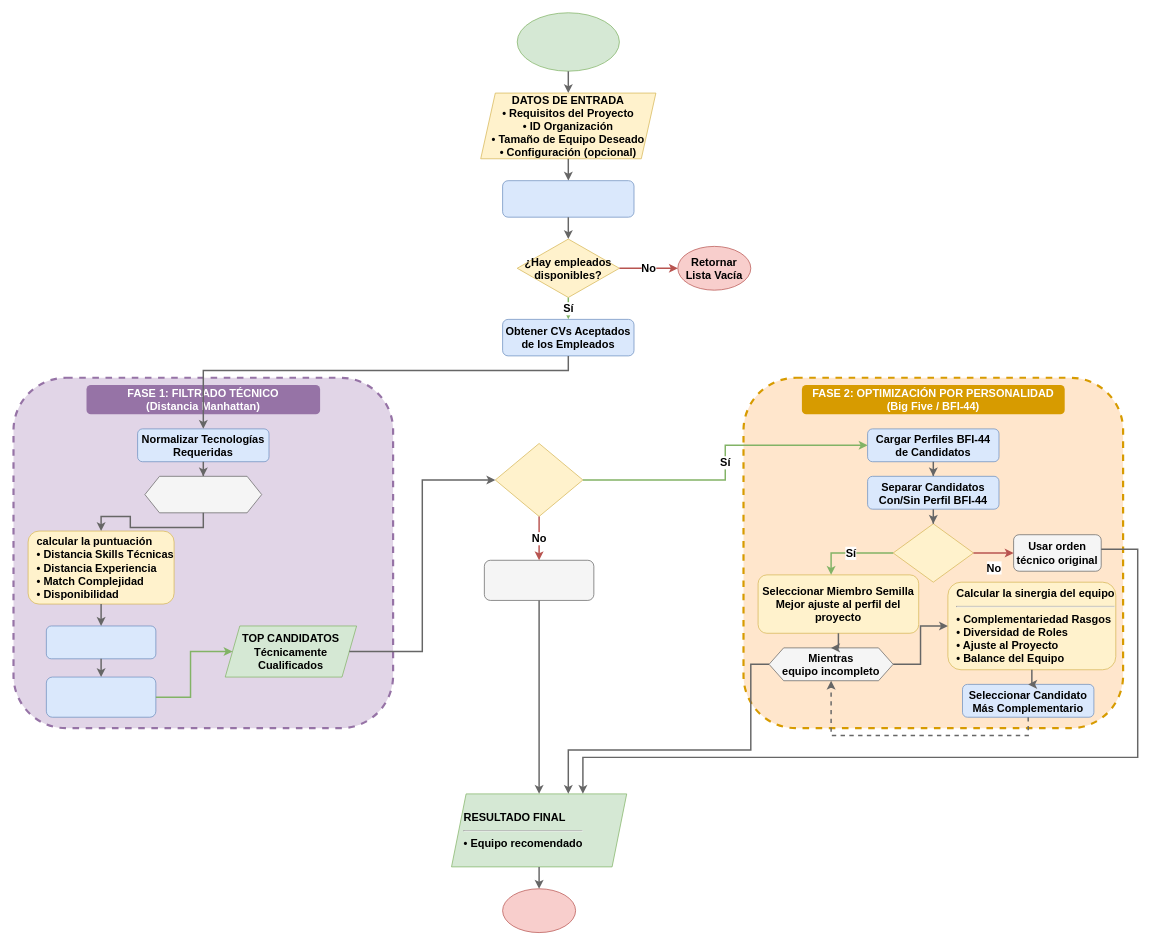
This 1157x945 diagram has some shape labels left out. The centre of each missing label's shape, as x and y in pixels:
FIN: (x=539, y=910)
INICIO Solicitud de Recomendación de Equipo: (x=567, y=41)
Obtener Empleados Activos de la Organización: (x=568, y=198)
Ordenar Candidatos por Score (ASC): (x=101, y=642)
Para cada CV de empleado: (x=203, y=494)
Retornar Top Candidatos (sin optimizar): (x=539, y=580)
Seleccionar Pool de Candidatos: (x=101, y=696)
¿Hay perfiles disponibles?: (x=932, y=552)
¿Optimización Personalidad Habilitada?: (x=539, y=479)
